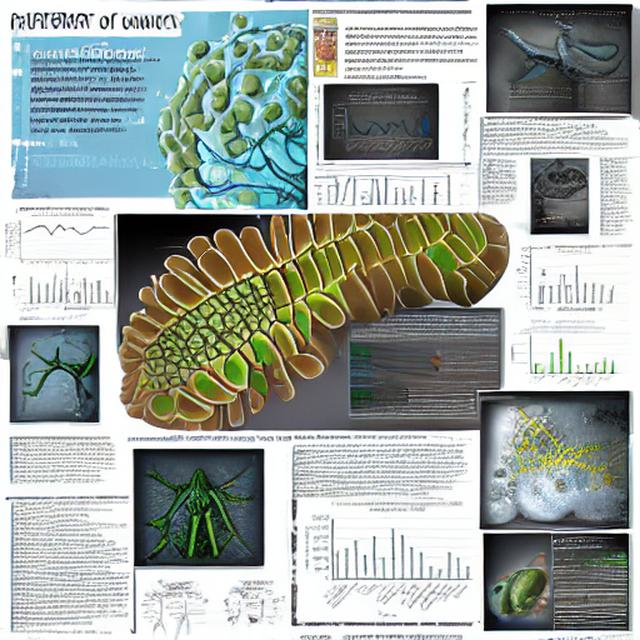Graph: (300, 499, 476, 620), (510, 324, 619, 389), (329, 95, 438, 160), (12, 213, 112, 268), (576, 79, 632, 113)
